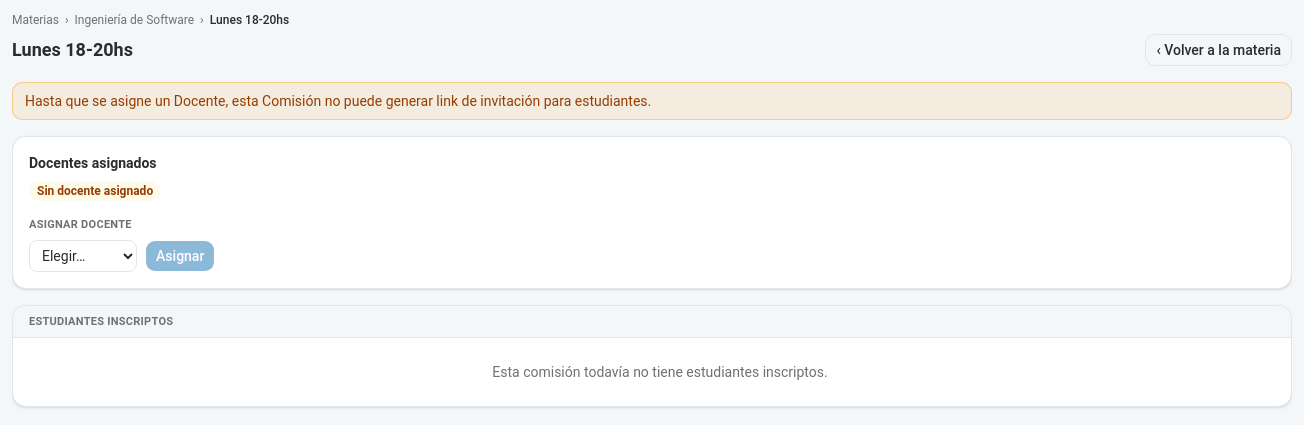
ComisionDetalle › asigna un docente y actualiza la vista sin recargar
The width and height of the screenshot is (1304, 425).
Expected: the text "Sin docente asignado" is shown, x1=29 y1=181 x2=161 y2=201
Select "Juan Pérez" in the dropdown labelled "Asignar Docente" at (83, 256), box x1=29 y1=240 x2=137 y2=272
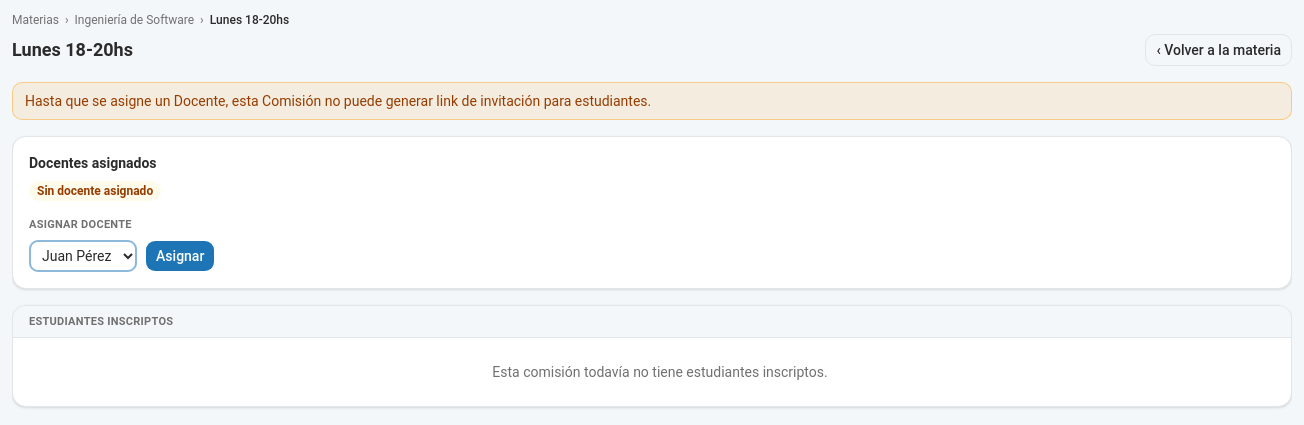
Click the button "Asignar".
click(180, 256)  # box x1=145 y1=240 x2=215 y2=272
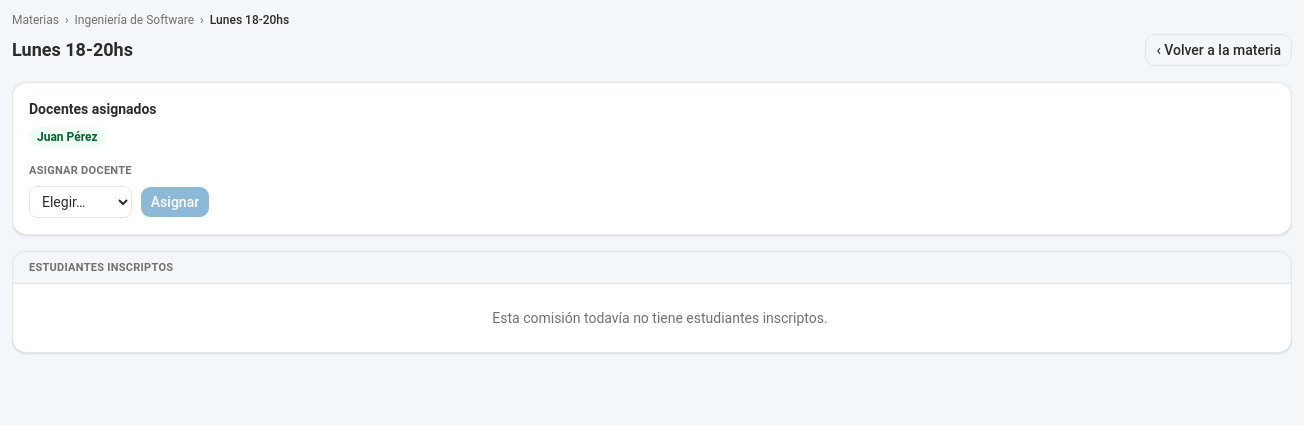
Result: the text "Juan Pérez" is shown at x1=29 y1=127 x2=106 y2=147
Result: the text "Sin docente asignado" is gone
